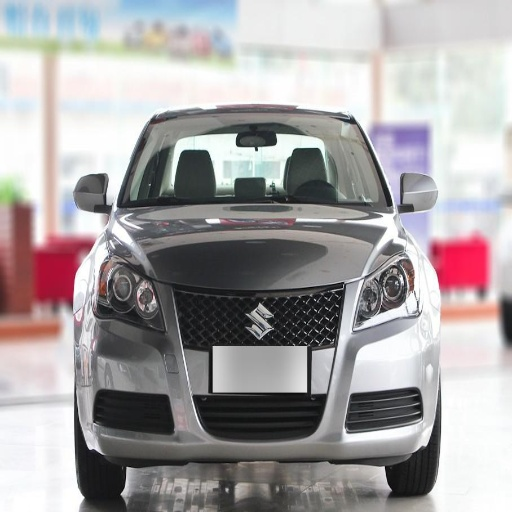front_bumper: (83, 278, 437, 463)
front_right_light: (96, 251, 163, 329)
hood: (113, 204, 405, 289)
left_mirror: (400, 173, 439, 214)
